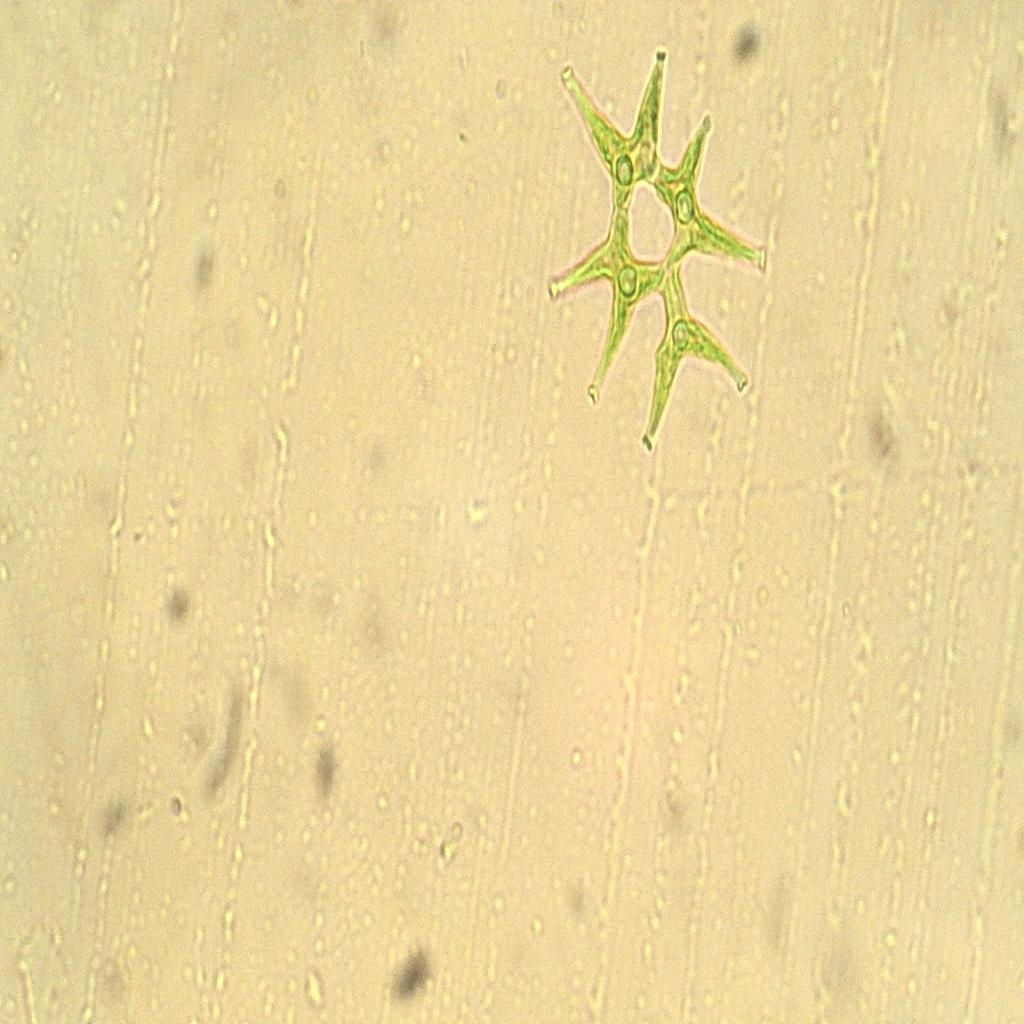Pediastrum_CT: (541, 42, 780, 463)
